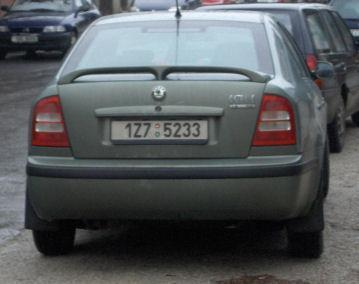placa de veiculo: (96, 106, 217, 150), (8, 26, 42, 49)
